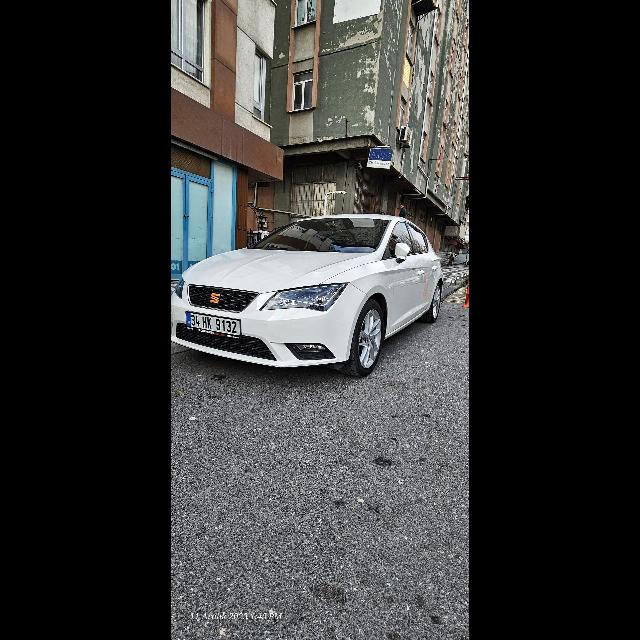Plaka: (186, 311, 240, 337)
